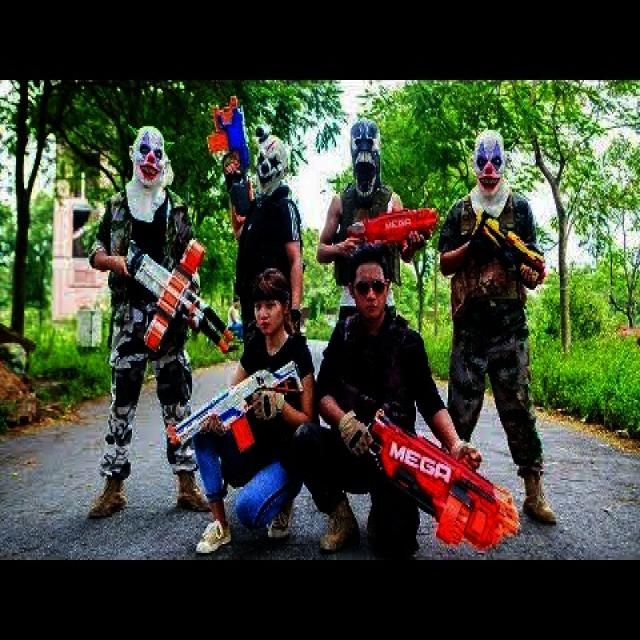Nerf gun: (353, 404, 519, 550), (158, 352, 302, 459), (116, 235, 232, 366), (196, 89, 260, 220), (467, 205, 549, 286), (344, 200, 440, 259)
